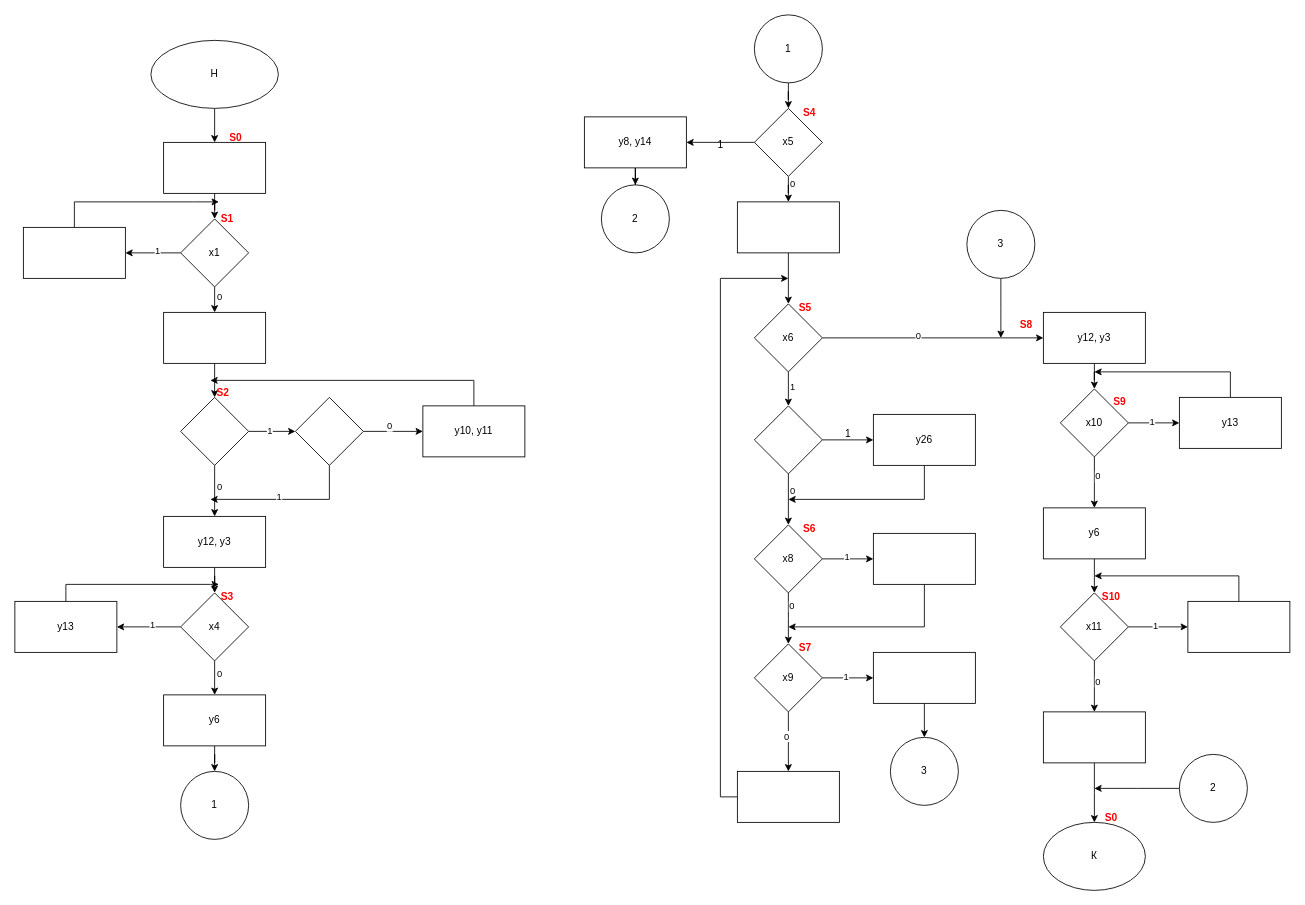
The diagram is 1305 pixels wide and 905 high, and some of its shapes have lost their labels. Here are the shapes that lost their labels. From the top down, the centre of each, then its label:
At (x=214, y=167): "y1, y2, y3".
At (x=788, y=227): "y15, y16, y17, y18, y19, y20, y21, y22, y23, y24, y9, y25".
At (x=74, y=252): "y4, y5".
At (x=214, y=337): "y6, y7, y8, y9".
At (x=214, y=431): "x2".
At (x=329, y=431): "x3".
At (x=788, y=439): "x7".
At (x=924, y=558): "y27".
At (x=1238, y=626): "y10".
At (x=924, y=677): "y28, y29, y30, y31, y32, y33, y34".
At (x=1094, y=737): "y7".
At (x=788, y=796): "y35, y36, y11".
